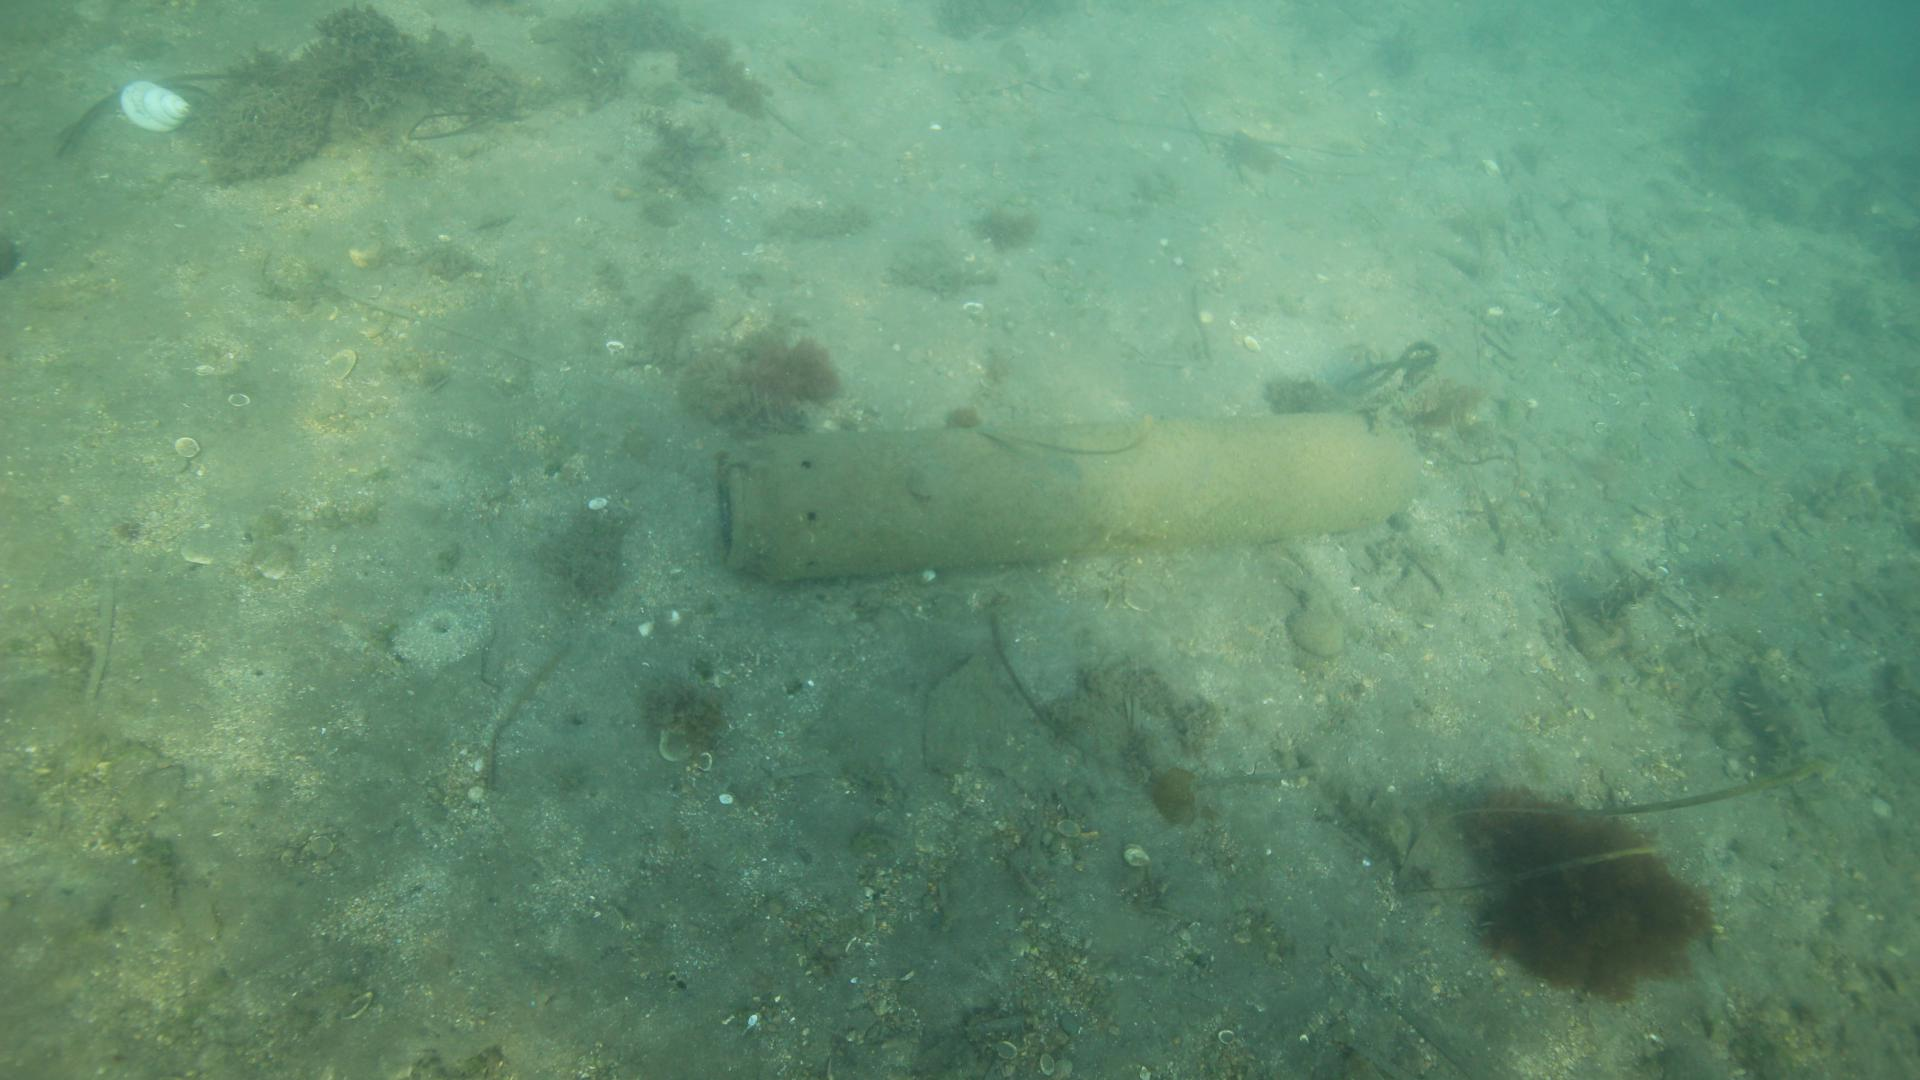bundle of ropes: (1333, 335, 1444, 429)
eel fish trap: (717, 407, 1429, 584)
